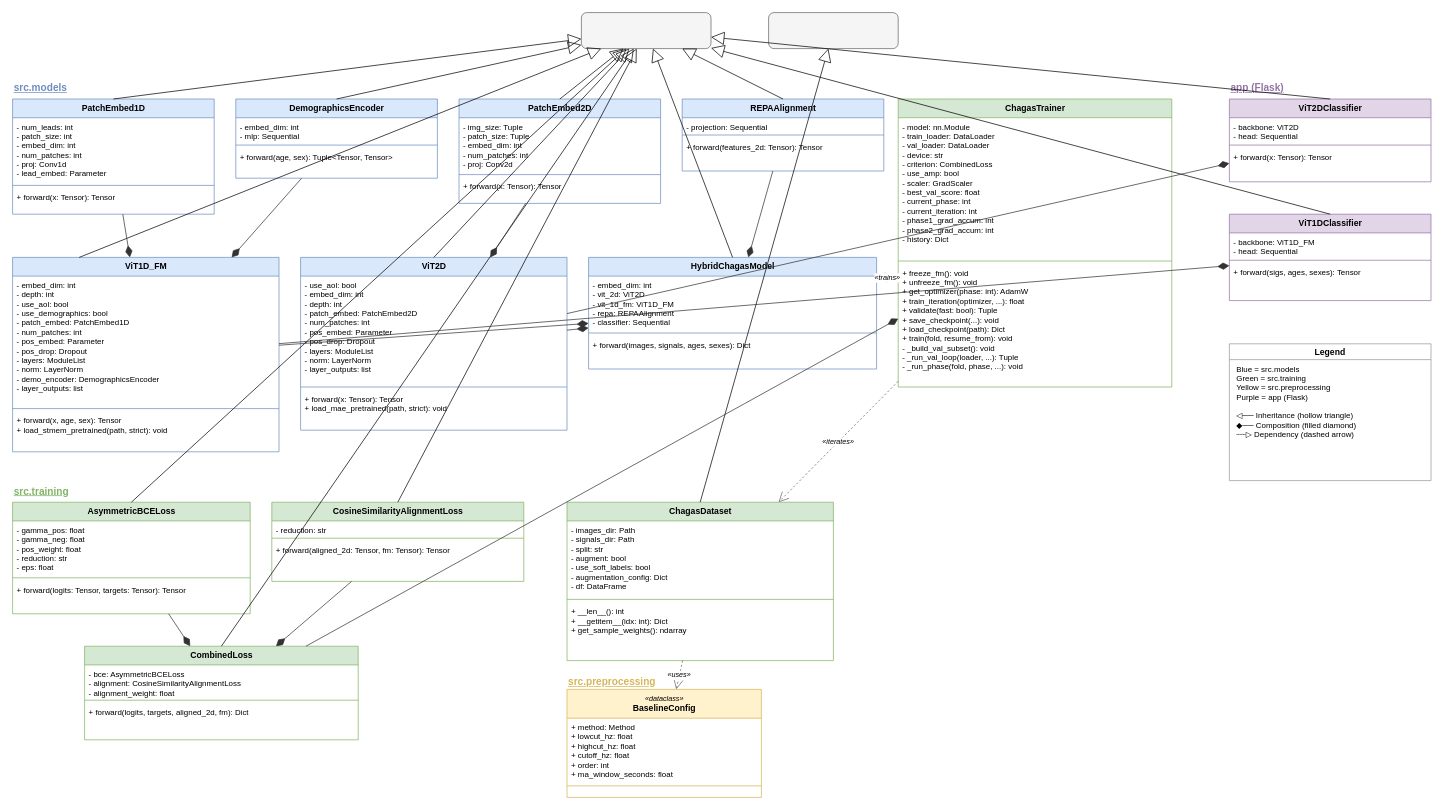
Image size: 1444x810. Some labels were removed from this diagram. Here are the shapes that lost their labels. From the top down, the centre of each, then its label:
point (646, 30): «PyTorch» nn.Module
point (833, 30): «PyTorch» Dataset
